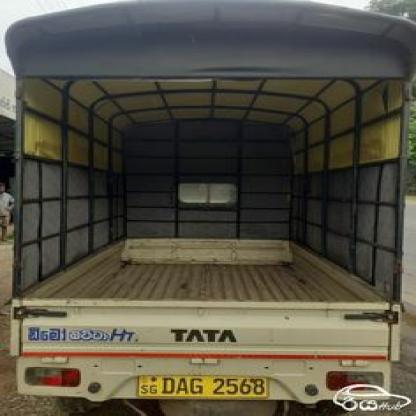Lorry back: (0, 4, 416, 405)
number plate: (136, 366, 266, 400)
